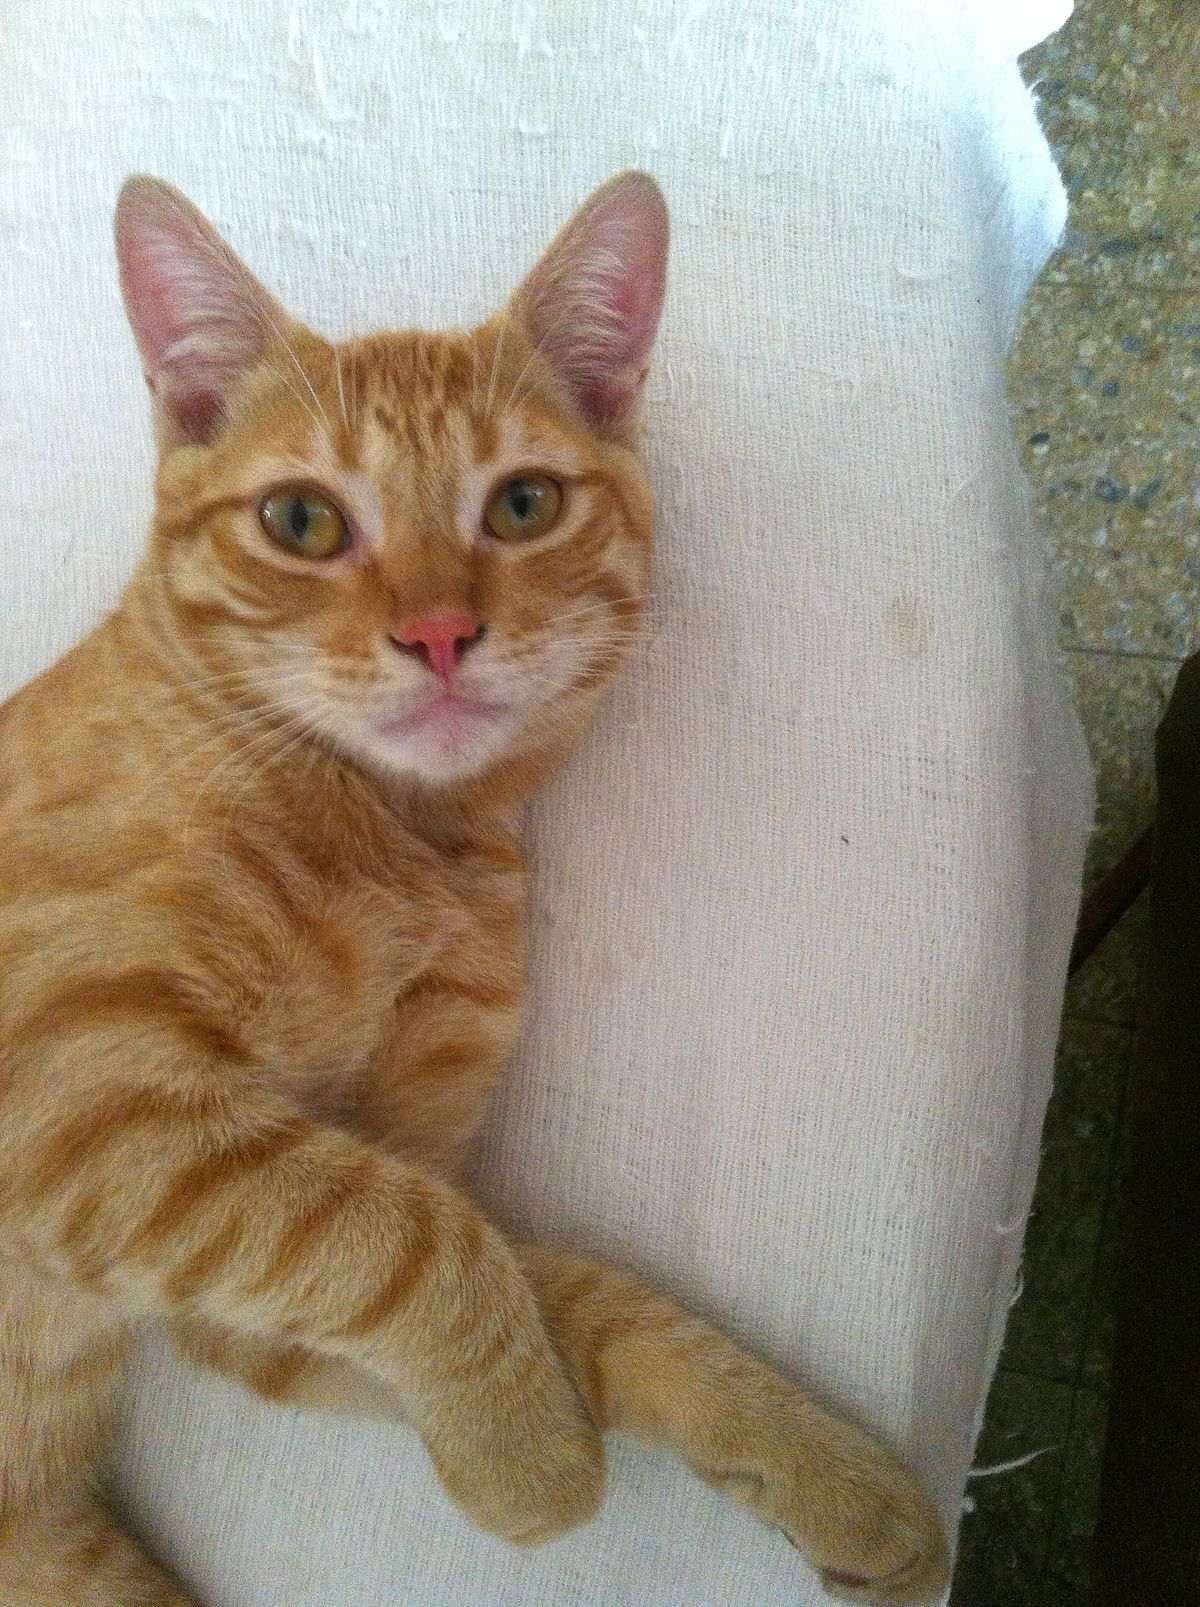Gato: (8, 151, 770, 1530)
